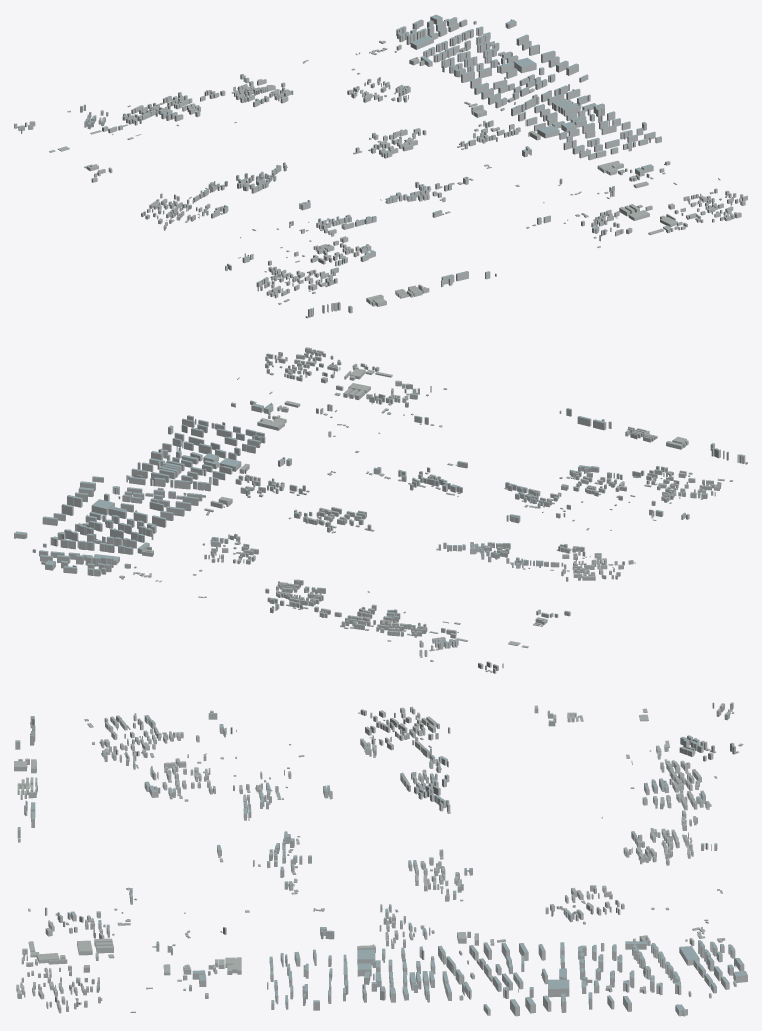
The model's file is far.glb.
3 views of the same model, one above another, from view 1: azimuth 30°, elevation 25°; view 2: azimuth 150°, elevation 25°; view 3: azimuth 270°, elevation 25° (orthographic). The views are drawn at different scales.
Size of the model in its own units: 2115 by 36.59 by 2126.
